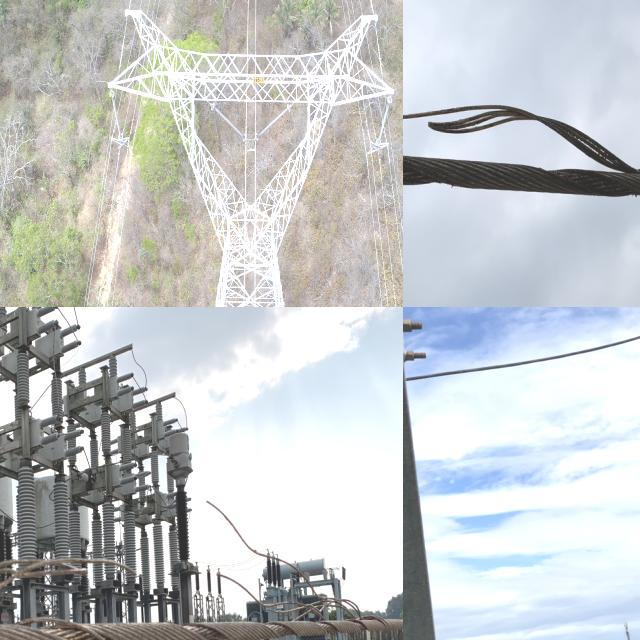杆塔: (98, 0, 403, 307)
正常电缆: (403, 317, 640, 397)
正常绝缘子: (370, 100, 398, 170), (108, 94, 128, 161)
电缆破损: (0, 486, 396, 640), (403, 92, 640, 199)
